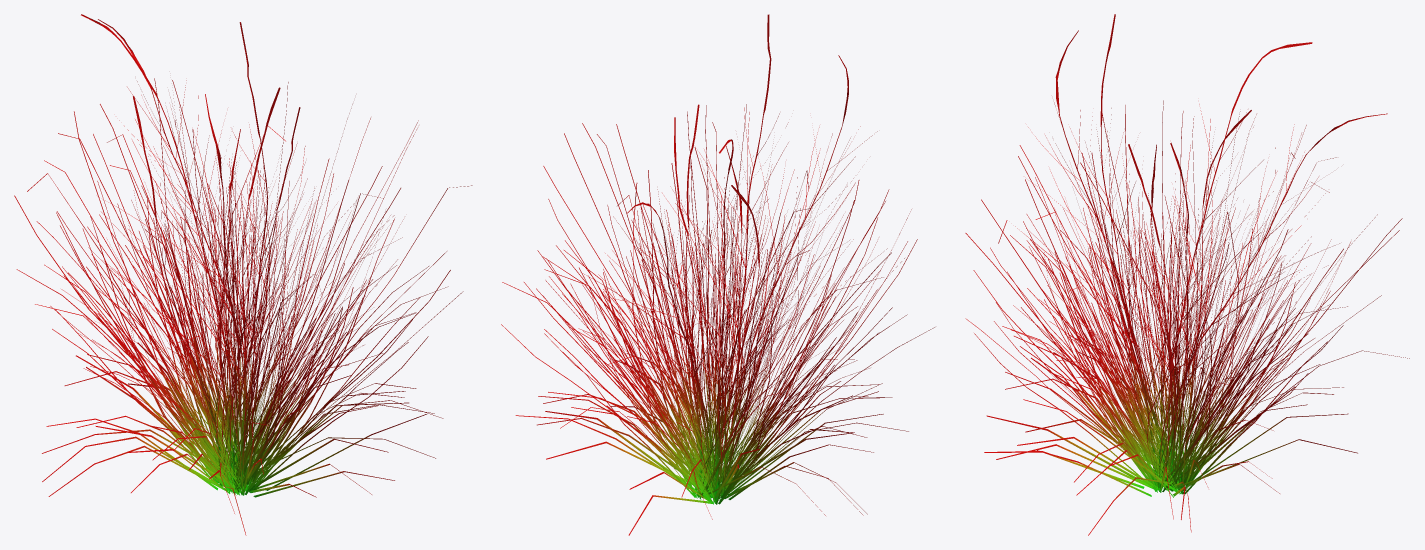
Rendered from Xeric Grass_LOD2_Var5_xjfgdhaqx.fbx.
3 views of the same model, side by side, from view 1: azimuth 30°, elevation 25°; view 2: azimuth 150°, elevation 25°; view 3: azimuth 270°, elevation 25° (orthographic). The views are drawn at different scales.
Parts seen in each view (by area): view 1: _2k1s_Var5_LOD2; view 2: _2k1s_Var5_LOD2; view 3: _2k1s_Var5_LOD2.
Boxes of the visible parts, box(x1,y1,x2,y2) form: _2k1s_Var5_LOD2: box(14, 14, 472, 535); _2k1s_Var5_LOD2: box(501, 14, 934, 535); _2k1s_Var5_LOD2: box(965, 14, 1409, 535).
Size of the model in its own units: 240 by 293 by 256.
